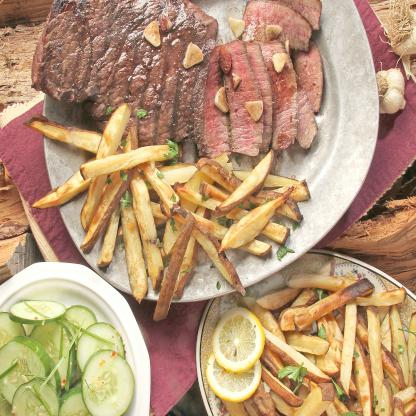Carne: (36, 0, 215, 118), (216, 34, 265, 160), (267, 31, 297, 152), (232, 5, 318, 45)
